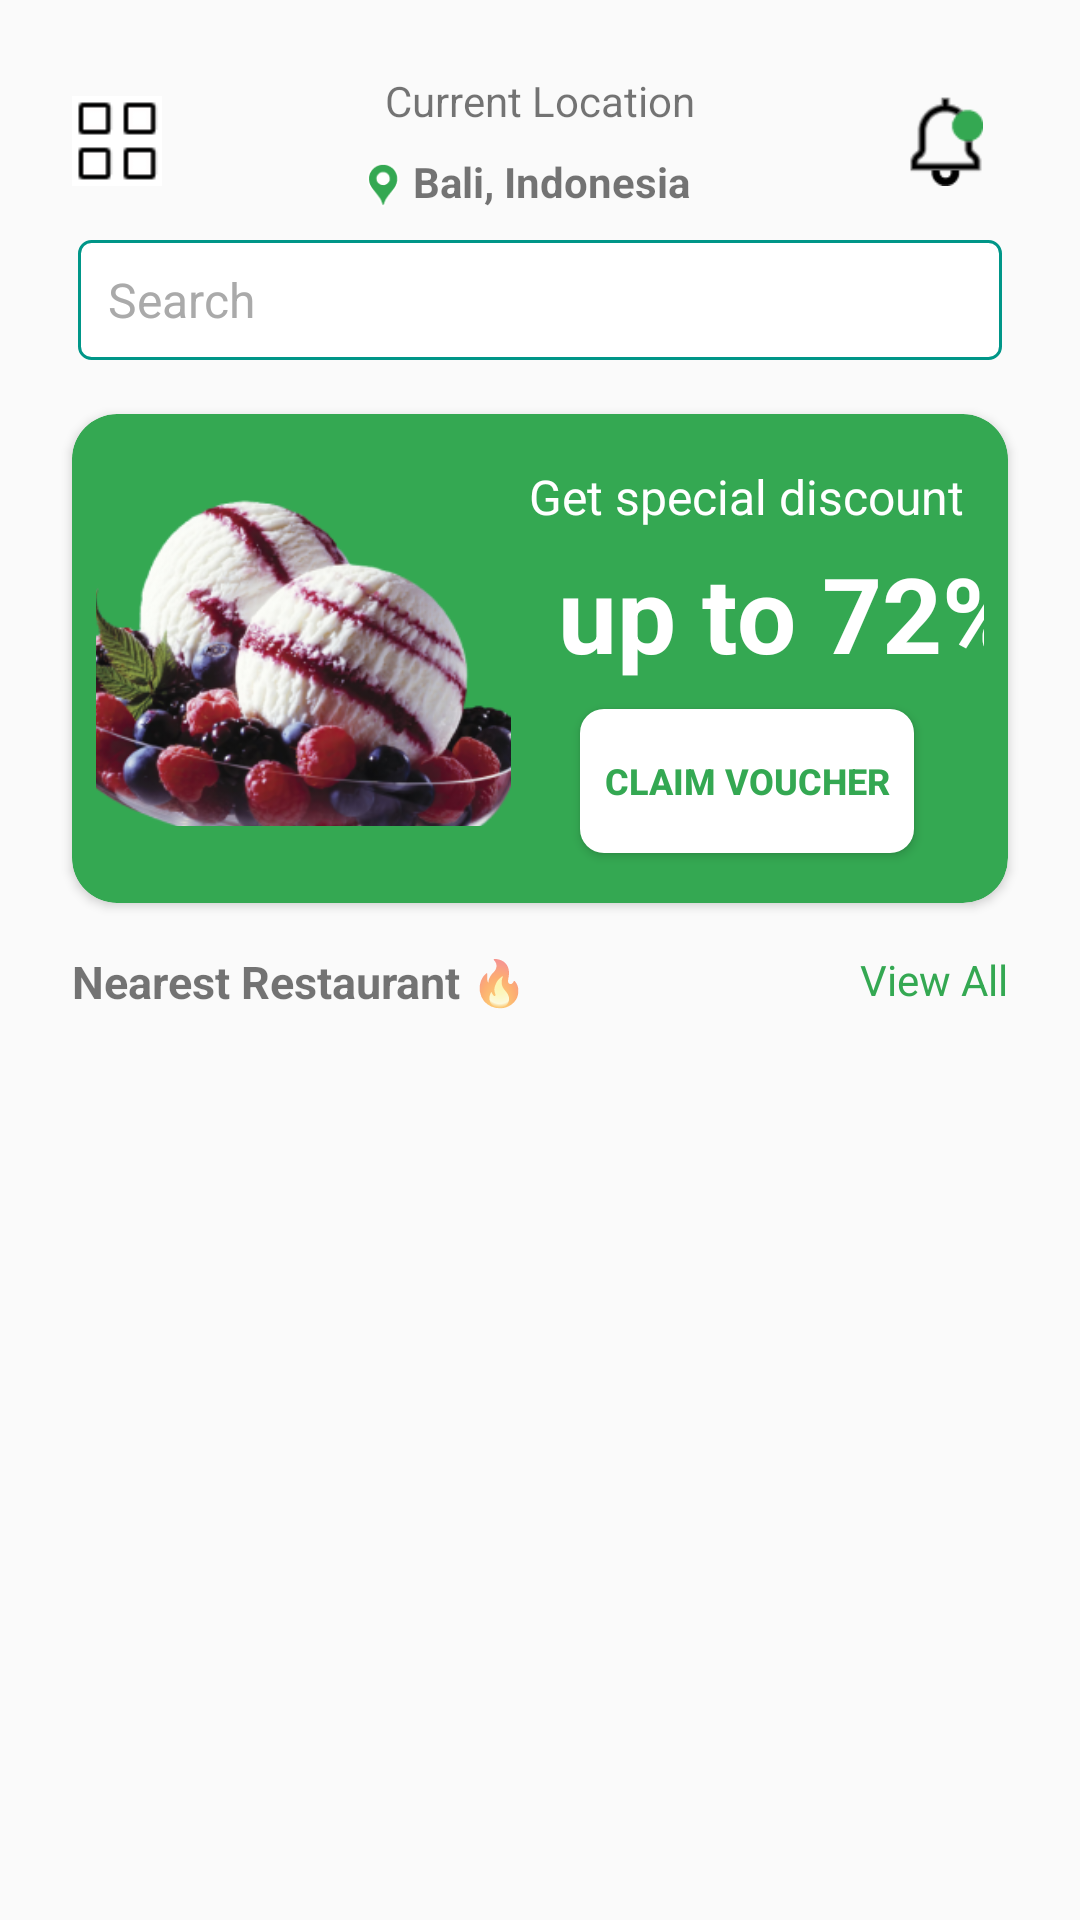

Point at icon controls on the screen. Image size 1080 × 1920, points as point (x, y).
mark: point (383, 185)
notif: point (946, 141)
toggle: point (117, 141)
